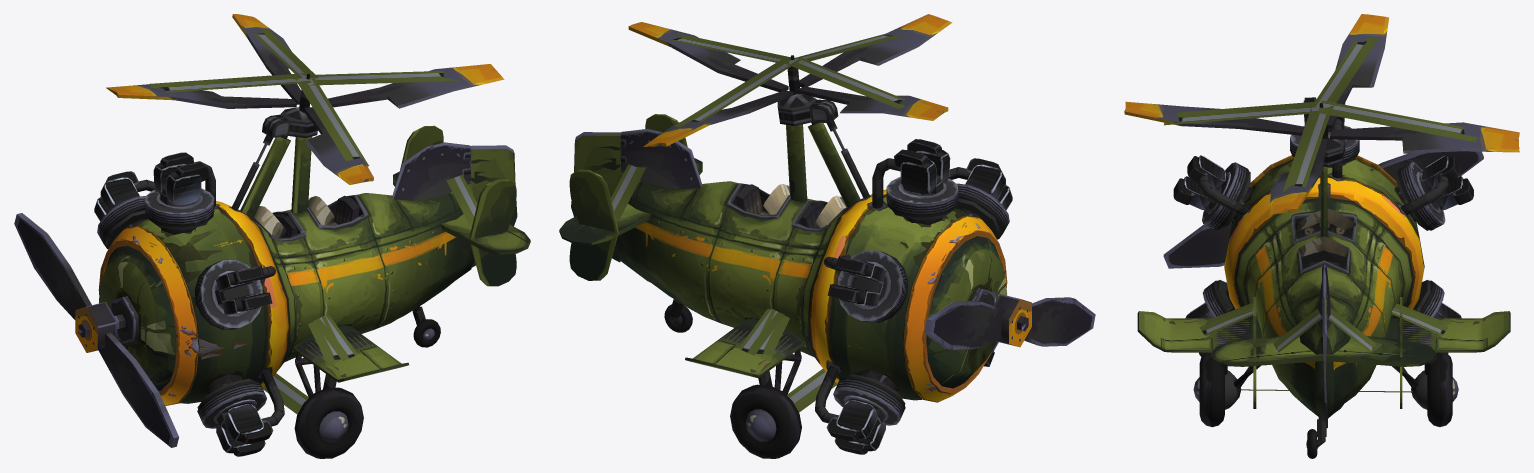
3 views of the same model, side by side, from view 1: azimuth 30°, elevation 25°; view 2: azimuth 150°, elevation 25°; view 3: azimuth 270°, elevation 25° (orthographic). The views are drawn at different scales.
Visible parts, largest first — view 1: BODY, TopPropeller, FrontPropeller; view 2: BODY, TopPropeller, FrontPropeller; view 3: BODY, TopPropeller, FrontPropeller.
Part boxes in pixels (x1=…): BODY: x1=94, y1=107, x2=530, y2=458; TopPropeller: x1=106, y1=14, x2=504, y2=184; FrontPropeller: x1=14, y1=213, x2=178, y2=447; BODY: x1=559, y1=94, x2=1012, y2=458; TopPropeller: x1=628, y1=14, x2=952, y2=146; FrontPropeller: x1=924, y1=294, x2=1095, y2=349; BODY: x1=1137, y1=97, x2=1510, y2=458; TopPropeller: x1=1124, y1=14, x2=1519, y2=214; FrontPropeller: x1=1163, y1=151, x2=1483, y2=268.
Bounding box in the file's own units: 6.05 × 4.54 × 4.74.
1 material, 1 textured.
